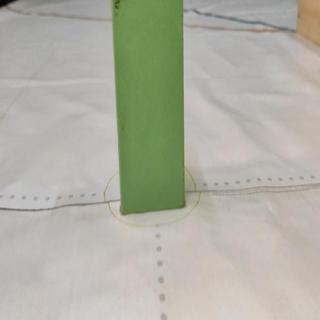greenbox: (109, 1, 188, 222)
